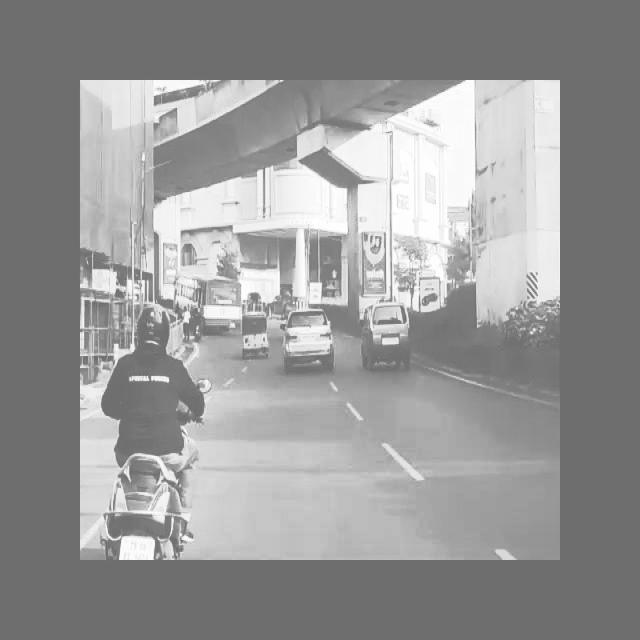Auto-Rickshaw: (240, 312, 274, 362)
Bike: (88, 420, 212, 562)
Bus: (170, 272, 251, 334)
Car: (279, 301, 342, 383), (366, 292, 411, 394)
